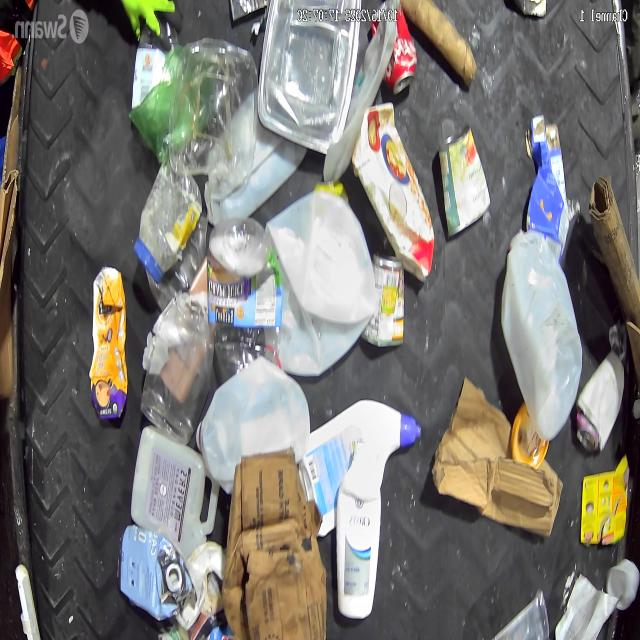can: (440, 128, 491, 228), (371, 0, 417, 94), (362, 250, 405, 349)
milk_jug: (276, 184, 376, 364), (502, 225, 583, 428), (194, 371, 307, 464)
non_white_jug: (116, 524, 190, 620)
plastic_bottle: (206, 218, 280, 372)
